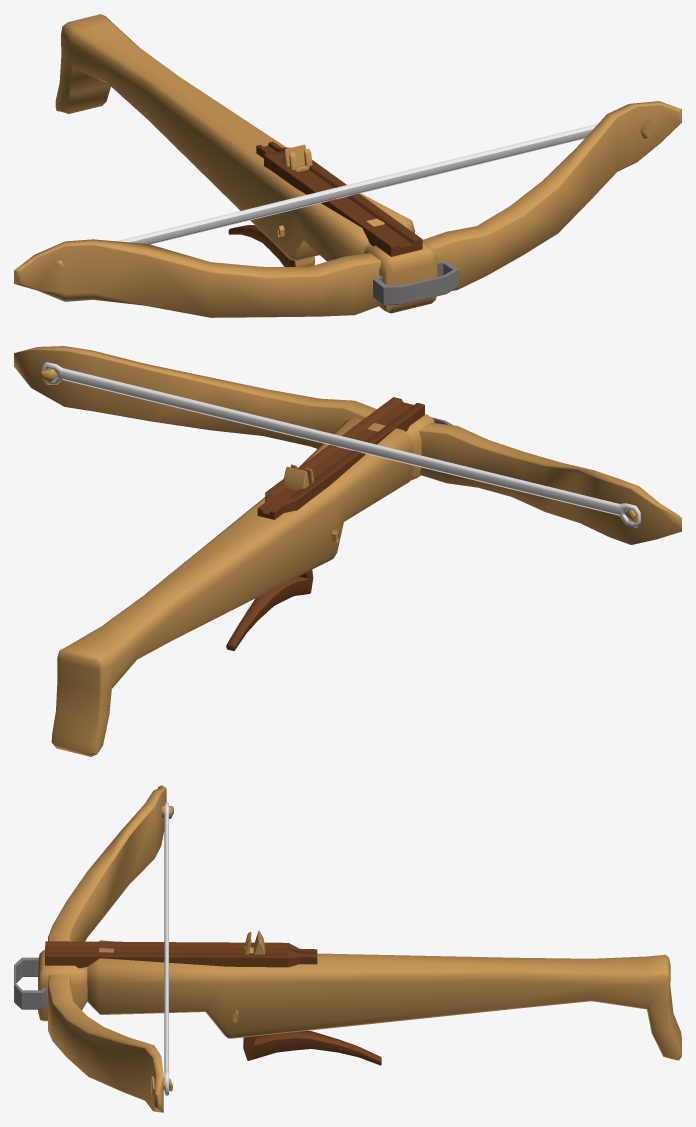
The model's file is Crossbow.fbx.
3 renders of one model, top to bottom at view 1: azimuth 30°, elevation 25°; view 2: azimuth 150°, elevation 25°; view 3: azimuth 270°, elevation 25°, orthographic. The views are drawn at different scales.
Visible parts, largest first — view 1: Crossbow, pTorus16; view 2: Crossbow, pTorus16; view 3: Crossbow, pTorus16.
Part boxes in pixels (x1,y1,x2,y2): Crossbow: [14, 14, 681, 317]; pTorus16: [117, 124, 597, 244]; Crossbow: [14, 346, 681, 756]; pTorus16: [41, 362, 640, 527]; Crossbow: [14, 785, 681, 1112]; pTorus16: [164, 801, 168, 1096].
Bounding box in the file's own units: 195 × 40.91 × 178.
